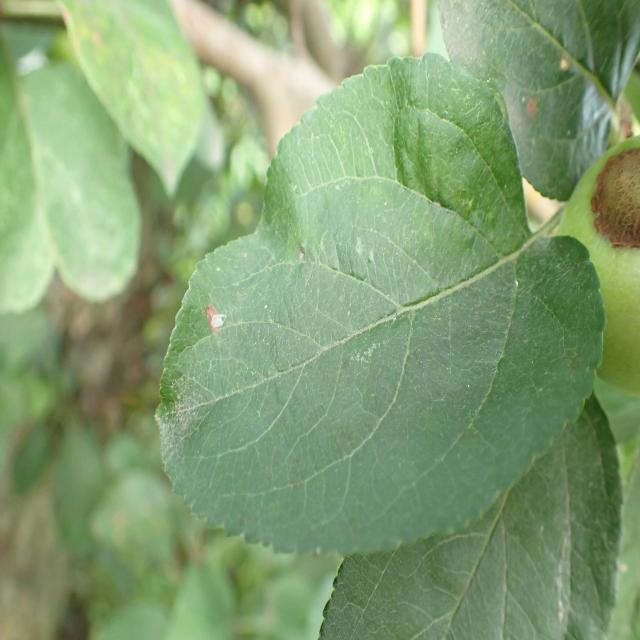frog-eye-leaf-spot: (152, 50, 607, 557)
